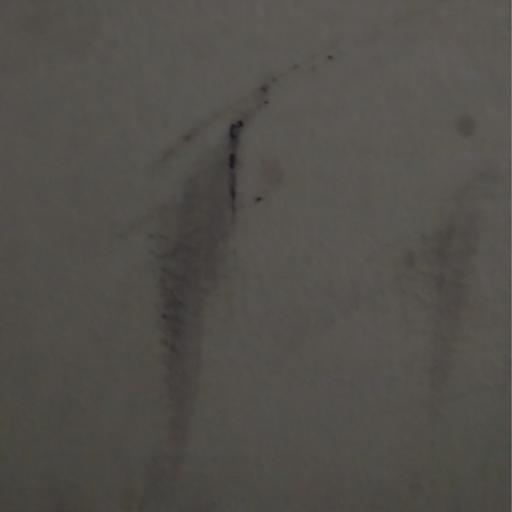stain: (121, 27, 341, 512), (336, 127, 512, 431), (440, 105, 483, 144)
